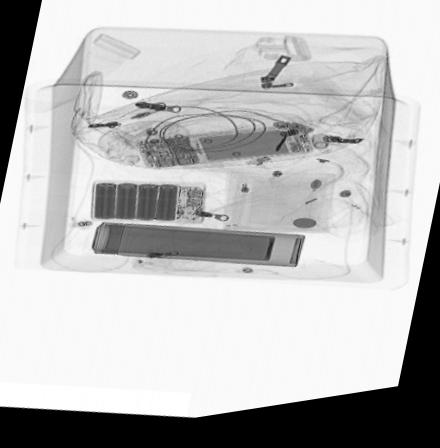Powerbank: (89, 186, 207, 231)
